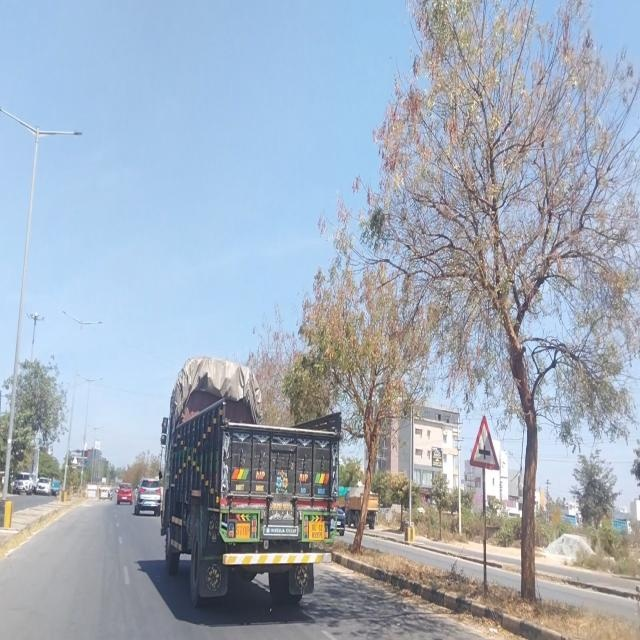bien_nguy_hiem: (470, 411, 500, 473)
